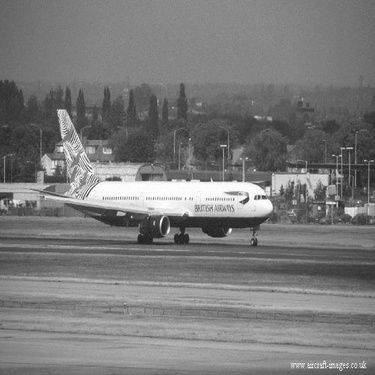airplane: (22, 91, 286, 262)
